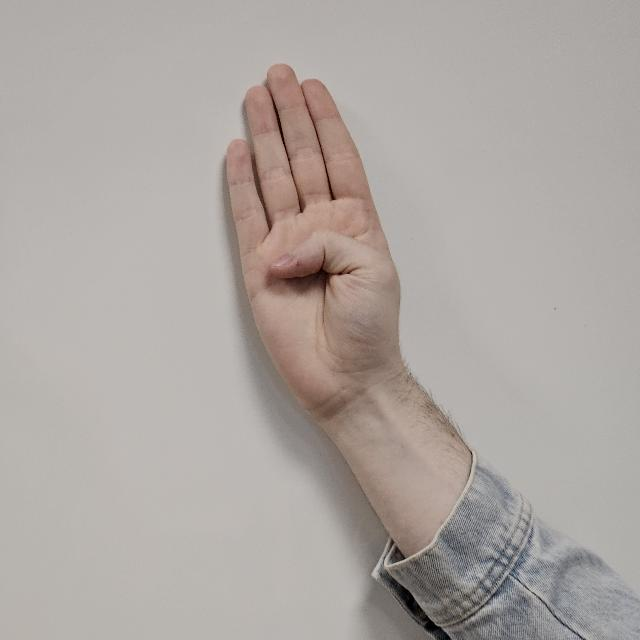Baixo: (208, 62, 430, 424)
